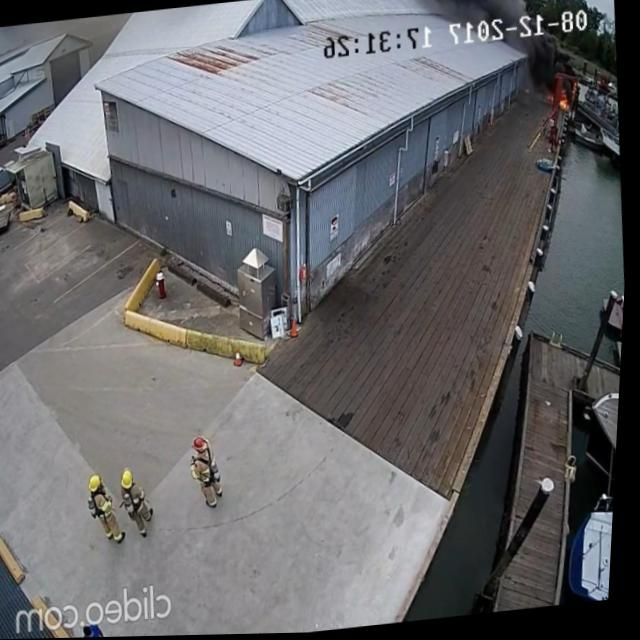fire: (558, 82, 581, 114), (547, 94, 556, 105)
